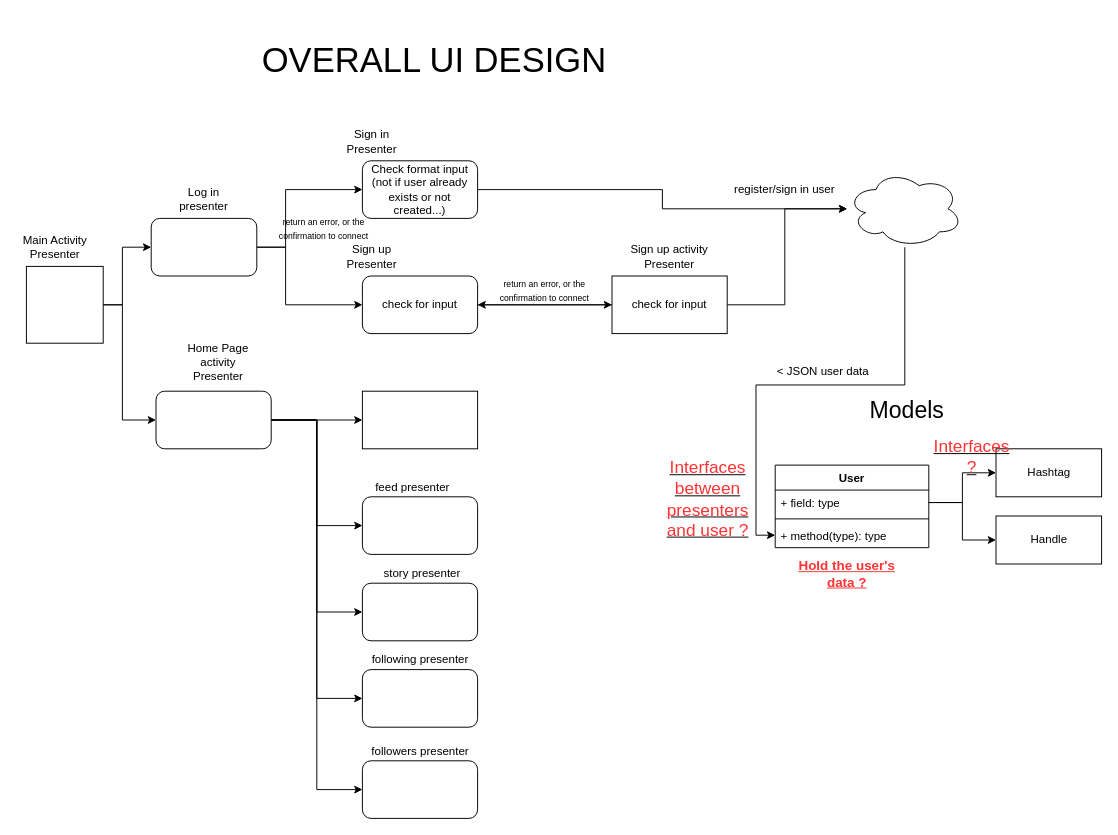
Some shapes in this 1118 by 835 pixel diagram are drawn without their labels. Here are the shapes that lost their labels. From the top down, the centre of each, then its label:
At (203,246): "return confirmation or error when user sign in/up".
At (419,419): "toolbar".
